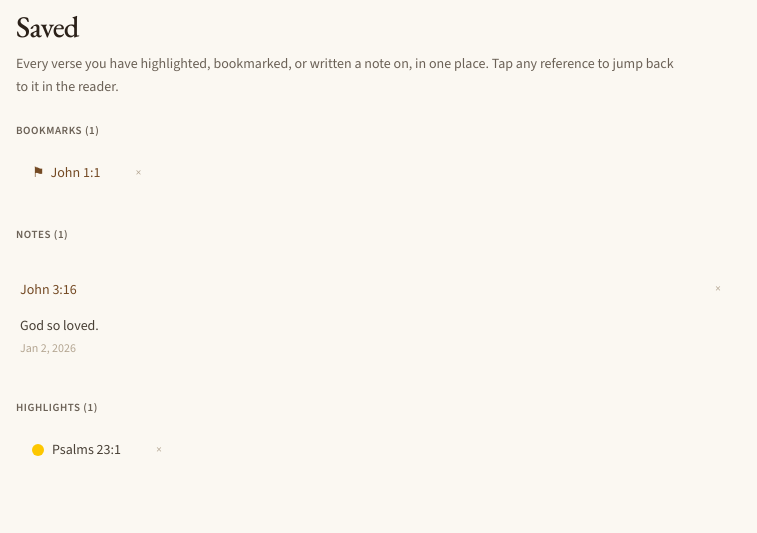
Test: /library/notes — every saved row can be removed › a failed remove says so and puts the row back — never a silent revert
Click the button named "Remove note on John 3:16": (718, 290) top-left (696, 268), bottom-right (740, 312)
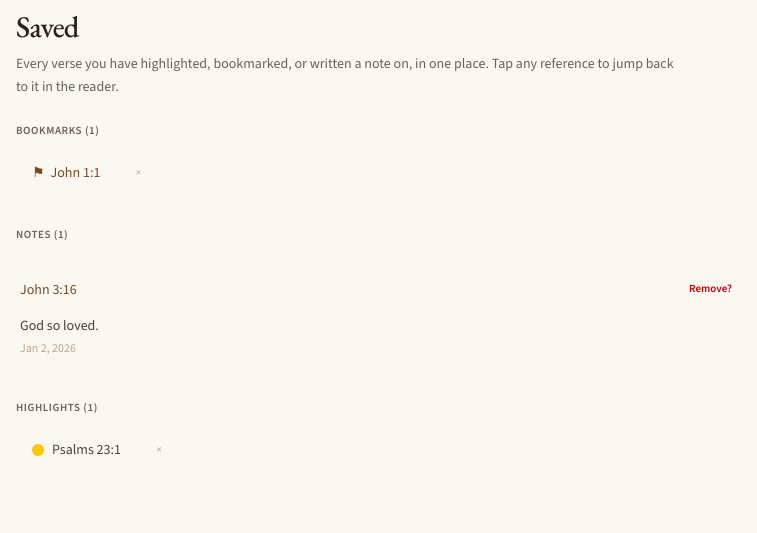
Click the button with aria-label "Confirm remove: note on John 3:16": (711, 290) top-left (681, 268), bottom-right (740, 312)
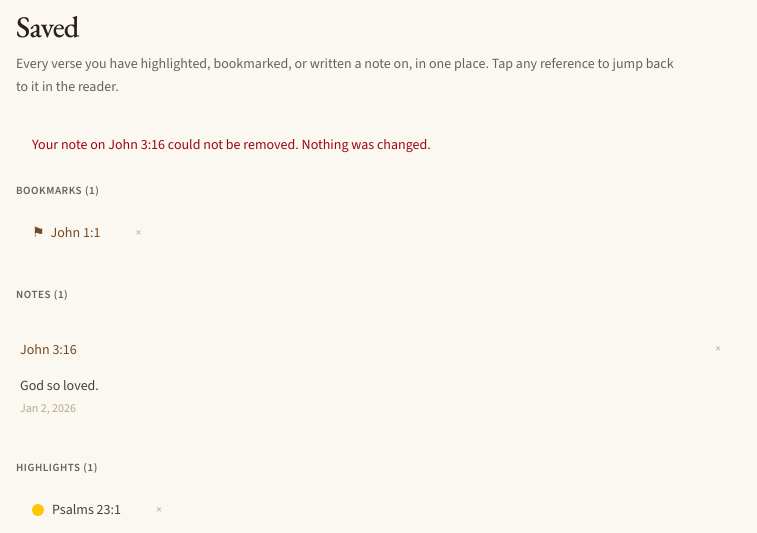
Expected: the text "God so loved." is shown, top-left (20, 376), bottom-right (99, 394)
Result: the message shows "could not be removed" at top-left (32, 134), bottom-right (431, 154)
